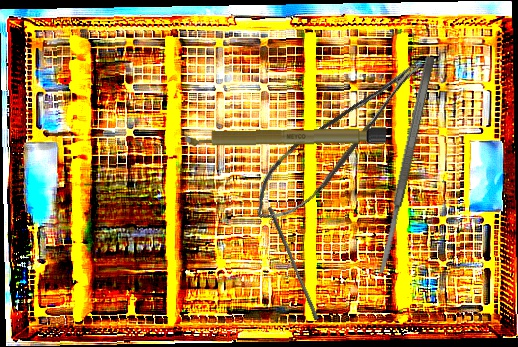Micro Scissor: (235, 53, 448, 234)
Pusher: (263, 206, 323, 321)
Scalpel Handle: (183, 126, 387, 147)
Spatula Surgical: (375, 55, 437, 275)
